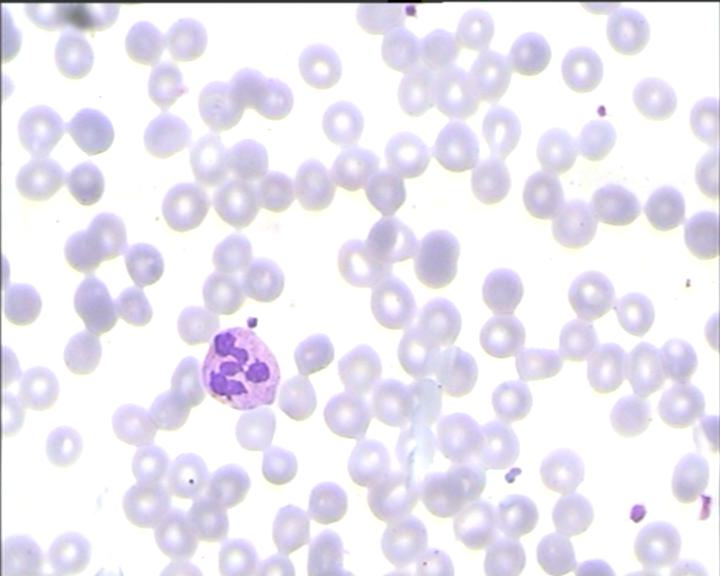neut: (199, 325, 281, 413)
